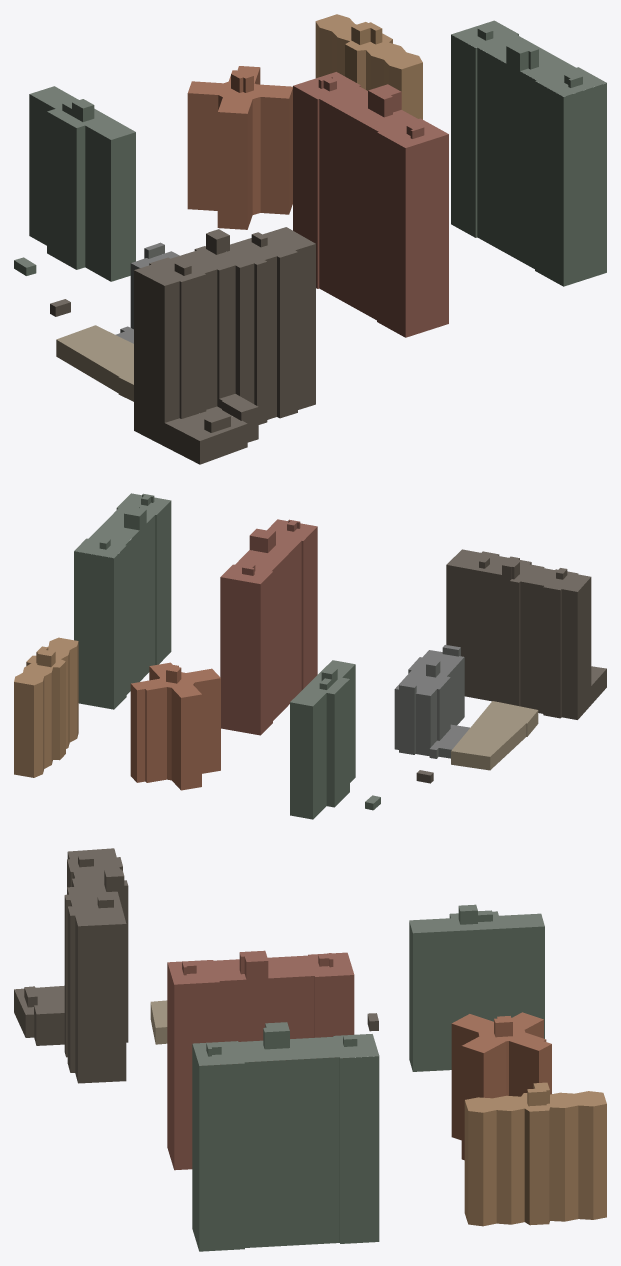
The model's file is tile-3_11.glb.
3 renders of one model, top to bottom at view 1: azimuth 30°, elevation 25°; view 2: azimuth 150°, elevation 25°; view 3: azimuth 270°, elevation 25°, orthographic. The views are drawn at different scales.
Parts seen in each view (by area): view 1: wall, roof; view 2: wall, roof; view 3: wall, roof.
Boxes of the visible parts, x1=… form: wall: x1=14, y1=22, x2=606, y2=464; roof: x1=14, y1=14, x2=606, y2=440; wall: x1=14, y1=495, x2=606, y2=819; roof: x1=14, y1=493, x2=606, y2=803; wall: x1=14, y1=852, x2=606, y2=1251; roof: x1=14, y1=848, x2=606, y2=1112.
Size of the model in its own units: 203 by 78.15 by 207.
